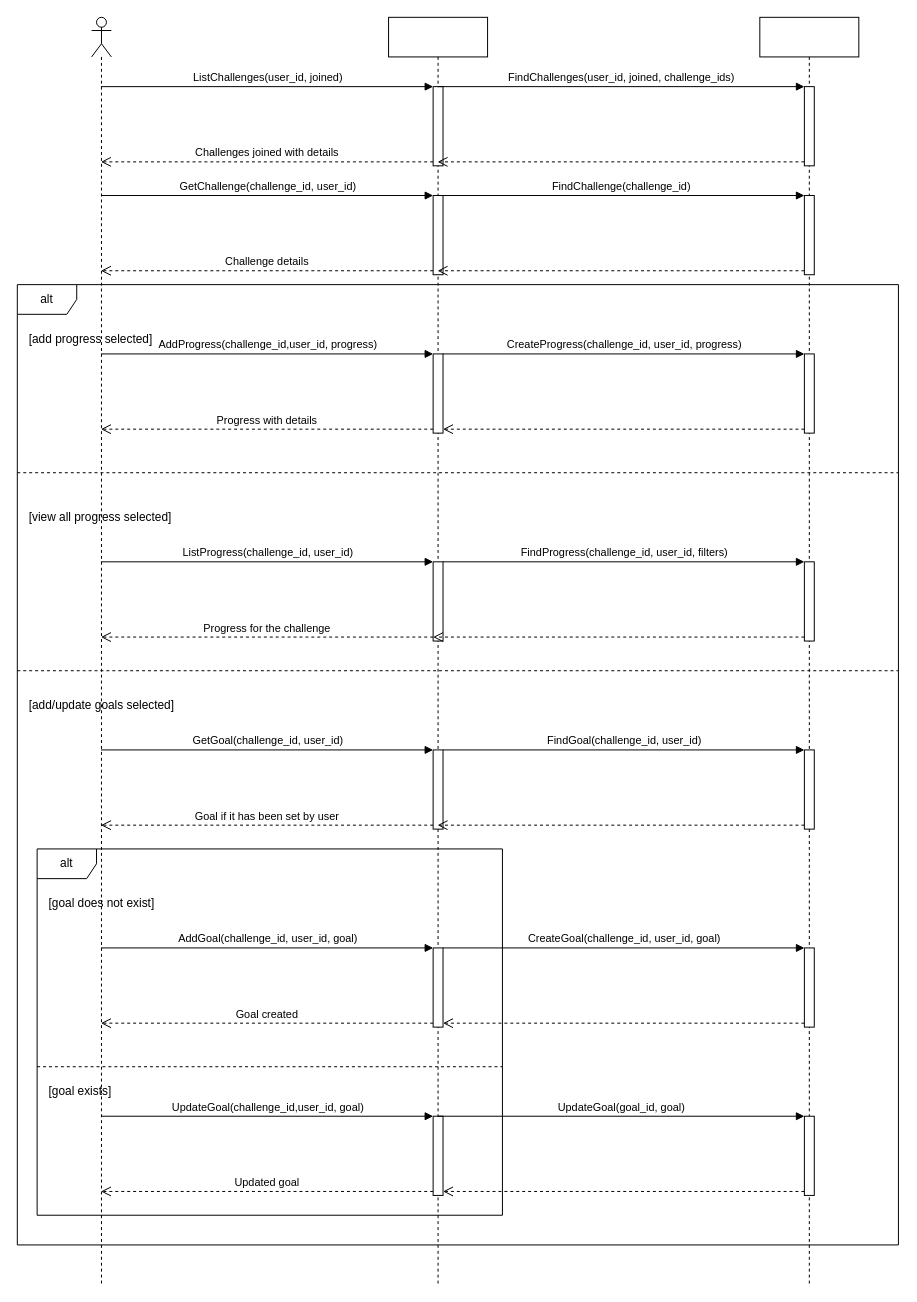
Some shapes in this 917 by 1302 pixel diagram are drawn without their labels. Here are the shapes that lost their labels. From the top down, the centre of each, then its label:
point 438,650: :challengebot
point 809,650: :repository
